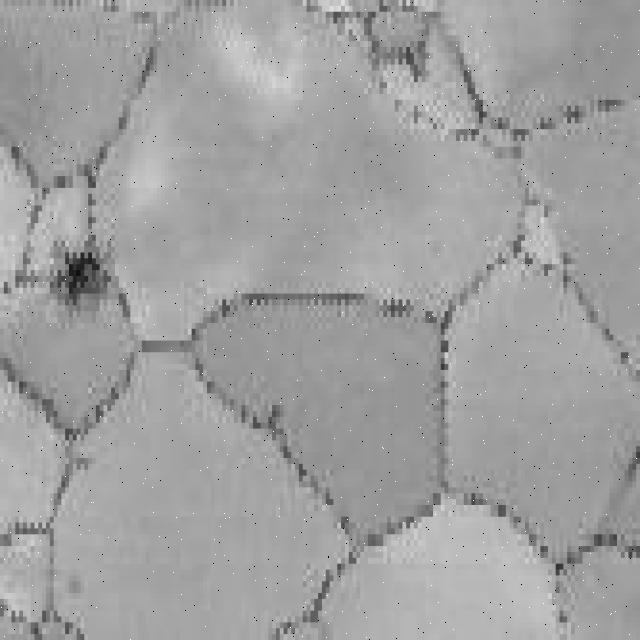good_void: (50, 237, 114, 319)
